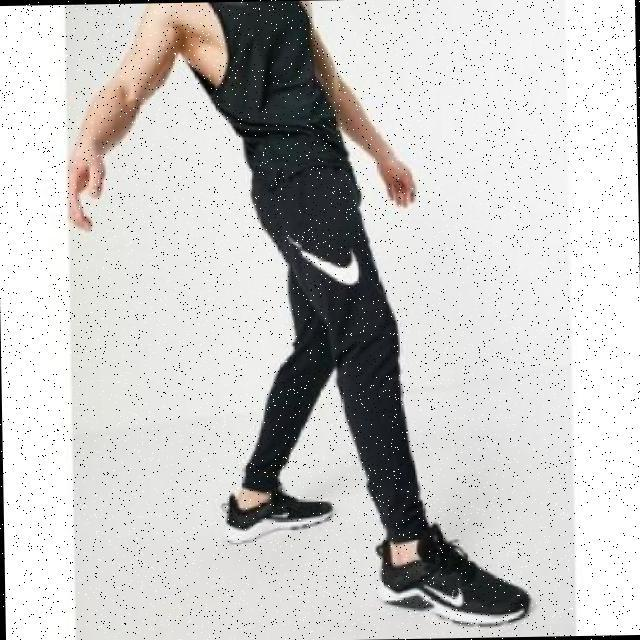Nike: (289, 233, 364, 288), (427, 581, 466, 605), (276, 507, 294, 515)
